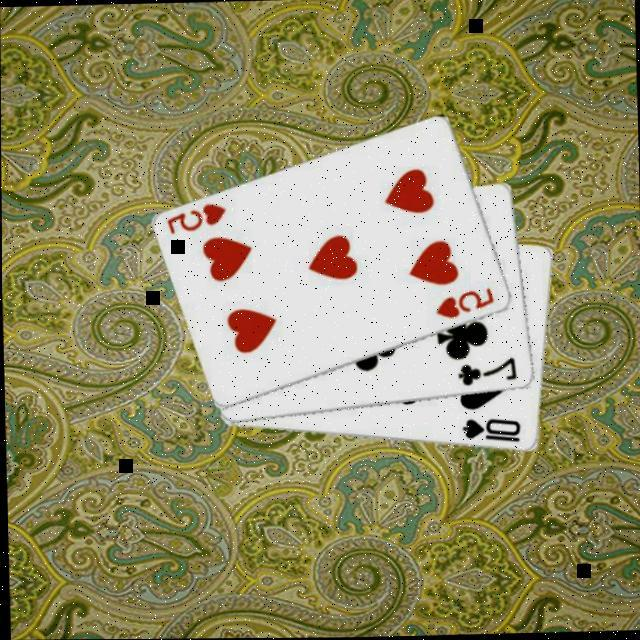10S: (460, 416, 524, 447)
5H: (434, 286, 499, 323), (166, 201, 230, 238)
7C: (456, 356, 520, 388)
